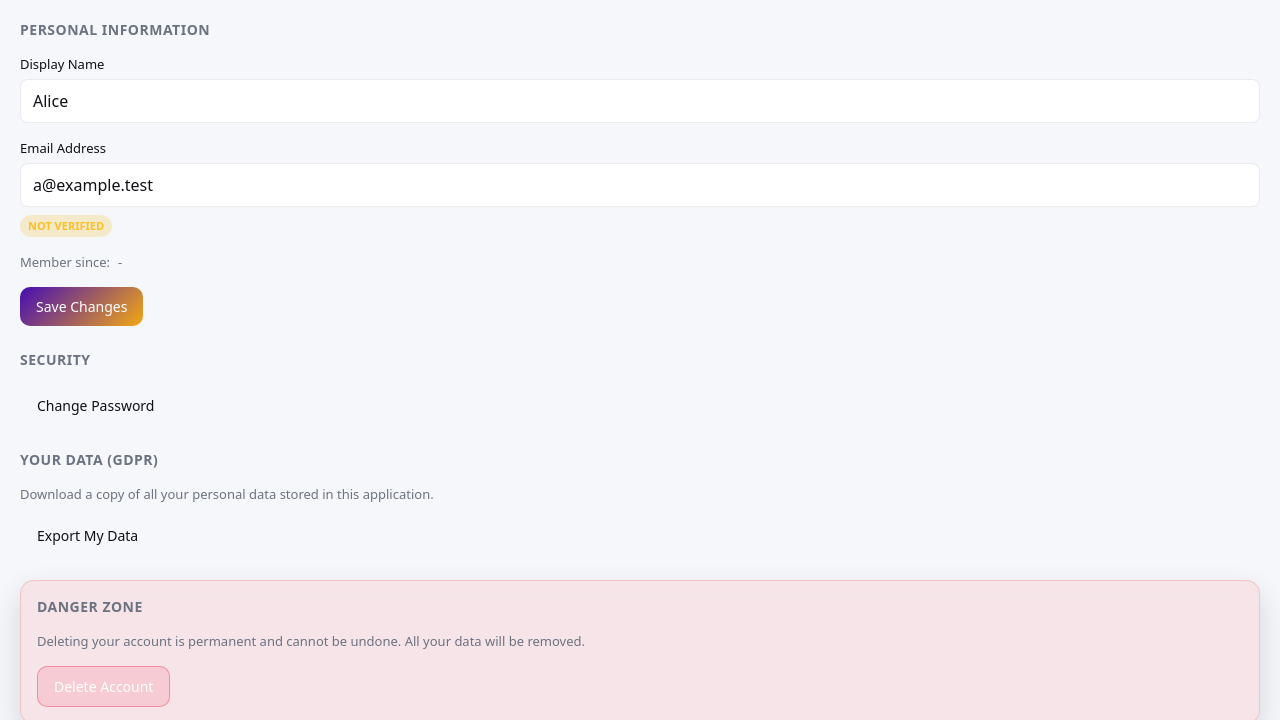
ProfileSettings name field › keeps the stored name when the field was cleared: the field shows it again after the save
The image size is (1280, 720).
Expected: the field with placeholder "your@email.com" below "Email Address" is not empty, [20, 163, 1260, 207]
Clear the field with placeholder "Your name" below "Display Name" at coordinates (640, 101), box [20, 79, 1260, 123]
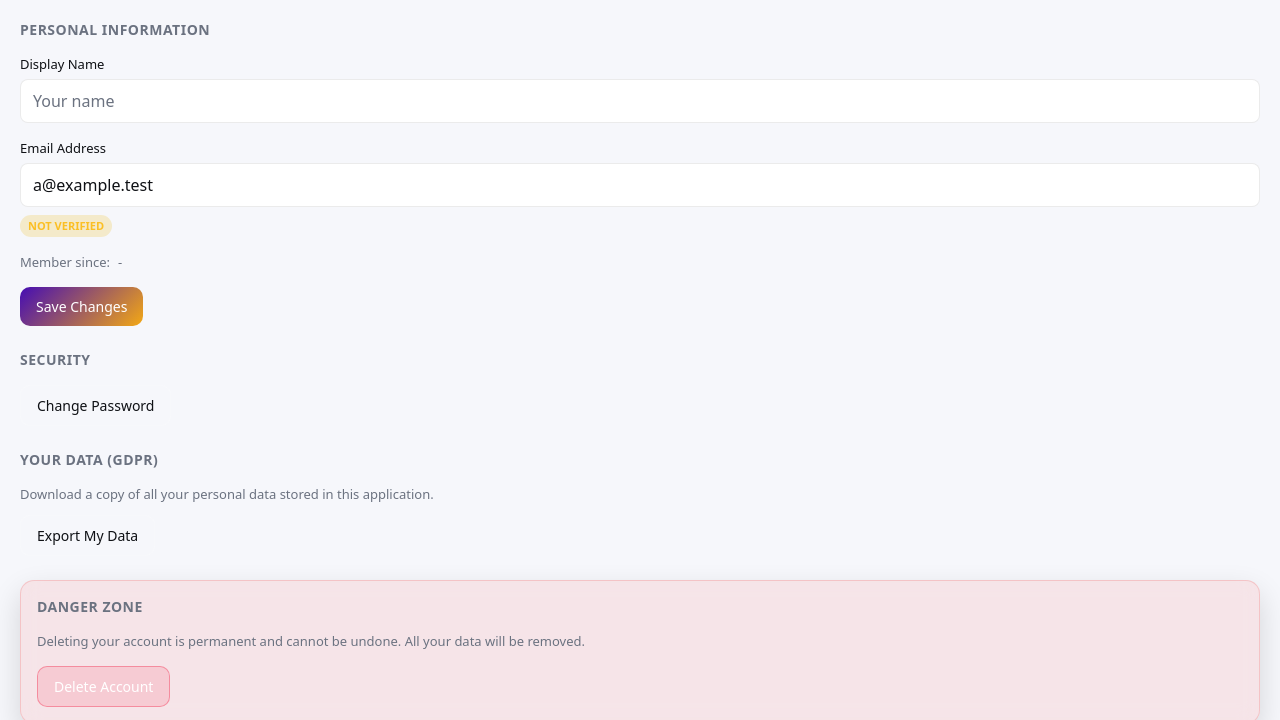
Click the button "Save Changes" at coordinates (82, 306), box [20, 287, 143, 326]
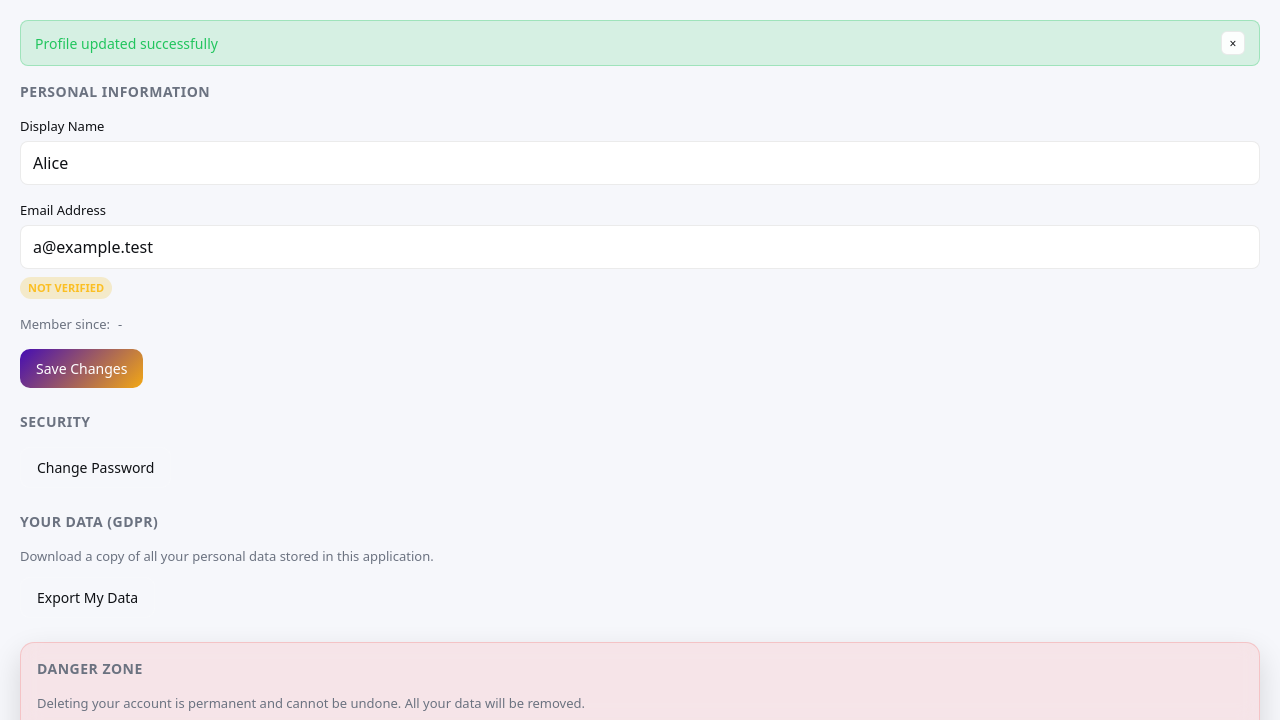
Expected: the field with placeholder "Your name" below "Display Name" holds "Alice", [20, 141, 1260, 185]
